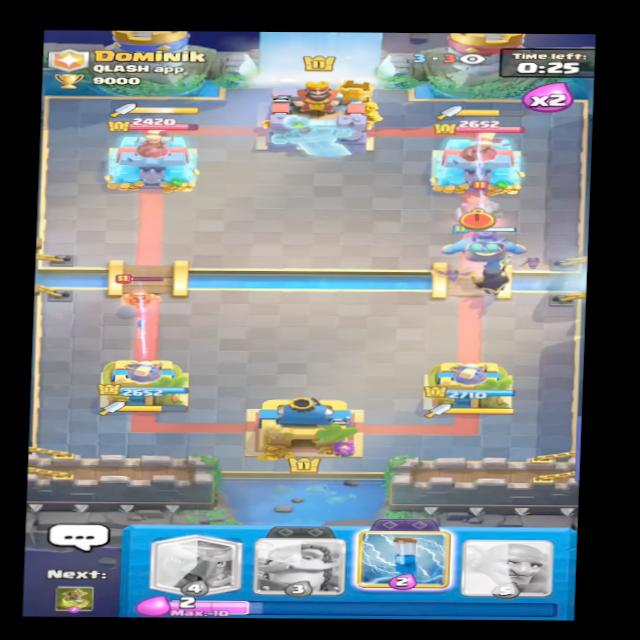royal-ghost: (444, 179, 509, 228)
wizard: (106, 276, 164, 313)
